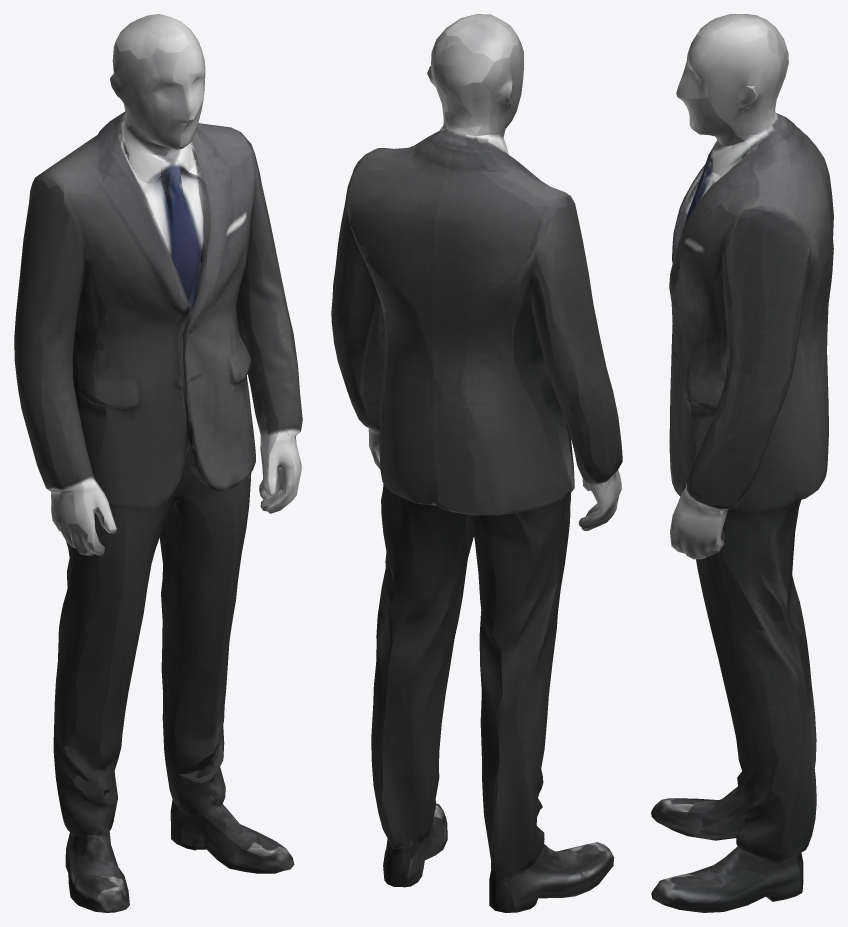
Rendered from doppel_suit.glb.
The picture shows the model from 3 angles, left to right: view 1: azimuth 30°, elevation 25°; view 2: azimuth 150°, elevation 25°; view 3: azimuth 270°, elevation 25°; orthographic projection.
Visible parts, largest first — view 1: geometry_0; view 2: geometry_0; view 3: geometry_0.
Part boxes in pixels (x1,y1,x2,y2): geometry_0: (14,14,302,912); geometry_0: (331,14,622,912); geometry_0: (651,14,833,912).
Size of the model in its own units: 3.01 by 9.22 by 1.8.
Materials: 1 (1 with a texture image).
